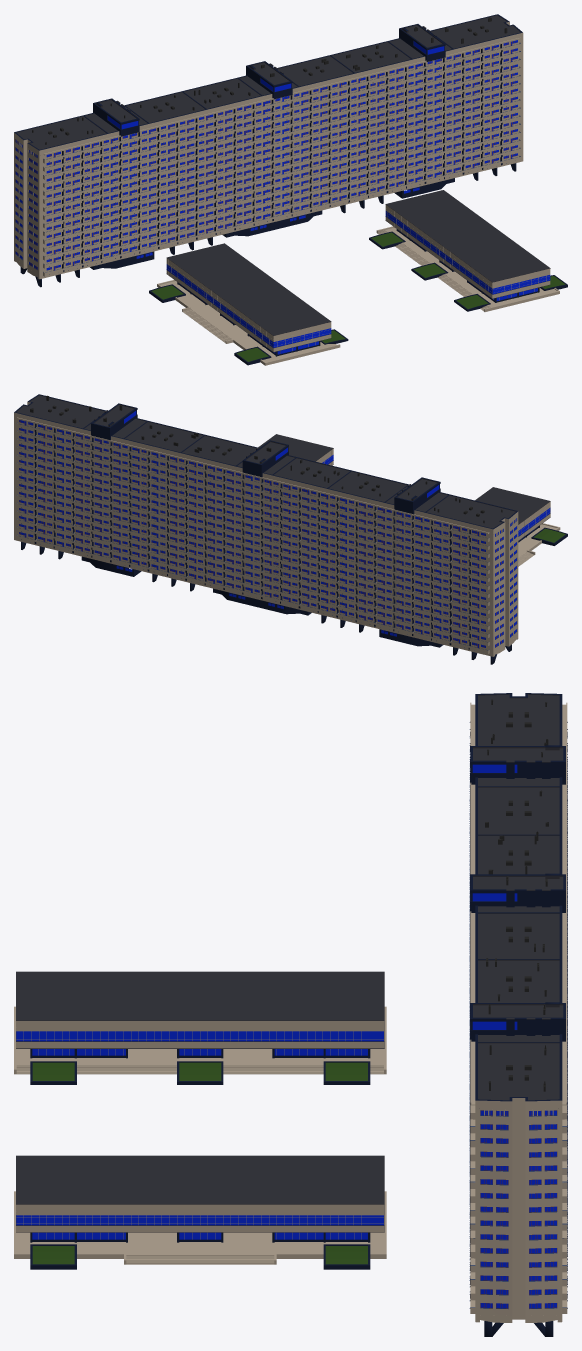
File: uploads_files_4360931_EEB_006.fbx
3 views of the same model, one above another, from view 1: azimuth 30°, elevation 25°; view 2: azimuth 150°, elevation 25°; view 3: azimuth 270°, elevation 25° (orthographic). The views are drawn at different scales.
Parts seen in each view (by area): view 1: o_concrete_01, o_glass, o_small_building_roof, o_concrete_02, o_roof, o_window_frames, o_barriers, o_stairs, o_small_building_walls, o_grass, o_small_building_glass, o_chimneys (+1 smaller); view 2: o_concrete_01, o_glass, o_concrete_02, o_roof, o_window_frames, o_barriers, o_small_building_roof, o_chimneys, o_stairs, o_small_building_walls, o_grass; view 3: o_small_building_roof, o_roof, o_concrete_01, o_small_building_walls, o_stairs, o_small_building_glass, o_concrete_02, o_grass, o_glass, o_window_frames, o_barriers, o_small_building_concrete (+1 smaller).
Part boxes in pixels (bbox=[...]): o_concrete_01: bbox=[14, 21, 523, 279]; o_glass: bbox=[15, 40, 517, 270]; o_small_building_roof: bbox=[166, 190, 550, 352]; o_concrete_02: bbox=[14, 14, 522, 287]; o_roof: bbox=[16, 15, 520, 149]; o_window_frames: bbox=[15, 41, 517, 270]; o_barriers: bbox=[15, 43, 520, 274]; o_stairs: bbox=[157, 226, 559, 365]; o_small_building_walls: bbox=[166, 205, 550, 353]; o_grass: bbox=[149, 231, 567, 365]; o_small_building_glass: bbox=[166, 211, 550, 354]; o_chimneys: bbox=[32, 17, 507, 144]; o_concrete_01: bbox=[14, 401, 518, 656]; o_glass: bbox=[19, 411, 516, 647]; o_concrete_02: bbox=[14, 394, 517, 664]; o_roof: bbox=[16, 395, 515, 528]; o_window_frames: bbox=[19, 420, 516, 647]; o_barriers: bbox=[16, 422, 516, 650]; o_small_building_roof: bbox=[259, 434, 550, 540]; o_chimneys: bbox=[30, 395, 502, 523]; o_stairs: bbox=[518, 523, 560, 566]; o_small_building_walls: bbox=[316, 449, 550, 540]; o_grass: bbox=[531, 527, 567, 545]; o_small_building_roof: bbox=[16, 971, 384, 1232]; o_roof: bbox=[473, 694, 563, 1100]; o_concrete_01: bbox=[470, 702, 567, 1322]; o_small_building_walls: bbox=[16, 1021, 384, 1239]; o_stairs: bbox=[14, 1006, 386, 1264]; o_small_building_glass: bbox=[16, 1031, 383, 1239]; o_concrete_02: bbox=[470, 693, 567, 1336]; o_grass: bbox=[30, 1061, 370, 1269]; o_glass: bbox=[472, 764, 556, 1308]; o_window_frames: bbox=[480, 1110, 557, 1308]; o_barriers: bbox=[469, 722, 567, 1308]; o_small_building_concrete: bbox=[30, 1049, 370, 1242].
Bounding box in the file's own units: 18907 × 5659 × 10837.
